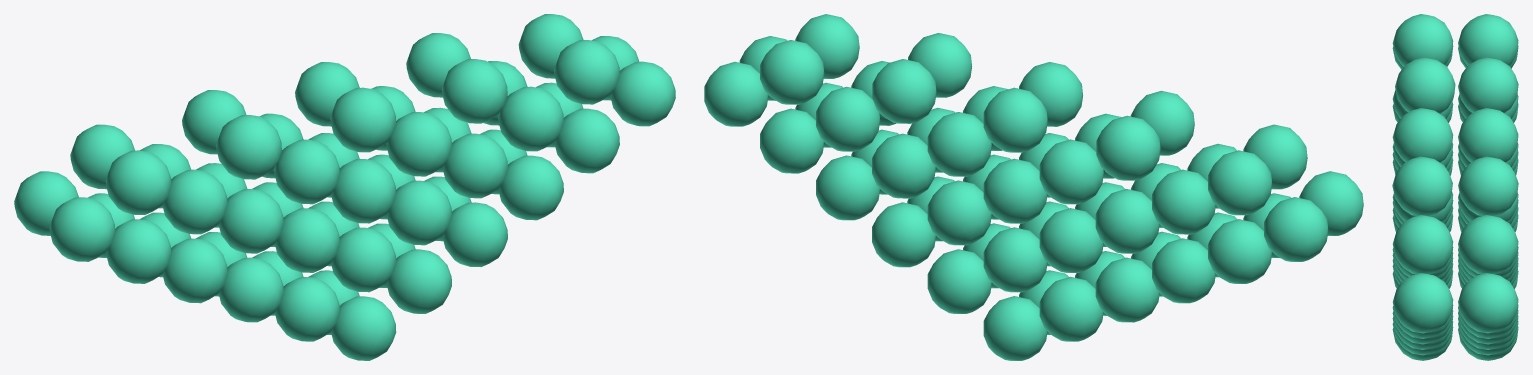
3 renders of one model, left to right at view 1: azimuth 30°, elevation 25°; view 2: azimuth 150°, elevation 25°; view 3: azimuth 270°, elevation 25°, orthographic. The views are drawn at different scales.
Visible parts, largest first — view 1: Balls.021, Balls.026, Balls.025, Balls.027, Balls.016, Balls.011, Balls.015, Balls.029, Balls.024, Balls.010, Balls.006, Balls.004 (+40 smaller); view 2: Balls.055, Balls.054, Balls.044, Balls.049, Balls.056, Balls.039, Balls.043, Balls.053, Balls.052, Balls.041, Balls.030, Balls.031 (+40 smaller); view 3: Balls.034, Balls.006, Balls.027, Balls.056, Balls.044, Balls.016, Balls.026, Balls.055, Balls.054, Balls.025, Balls.049, Balls.021 (+28 smaller).
Boxes of the visible parts, bbox=[...] form: Balls.021: bbox=[105, 150, 171, 214]; Balls.026: bbox=[216, 115, 281, 179]; Balls.025: bbox=[330, 87, 396, 152]; Balls.027: bbox=[442, 59, 507, 123]; Balls.016: bbox=[554, 40, 619, 104]; Balls.011: bbox=[49, 197, 115, 261]; Balls.015: bbox=[498, 86, 563, 151]; Balls.029: bbox=[274, 139, 339, 204]; Balls.024: bbox=[386, 112, 451, 176]; Balls.010: bbox=[106, 219, 171, 283]; Balls.006: bbox=[610, 61, 675, 126]; Balls.004: bbox=[498, 155, 563, 220]; Balls.055: bbox=[1096, 115, 1160, 180]; Balls.054: bbox=[983, 87, 1047, 152]; Balls.044: bbox=[760, 40, 824, 104]; Balls.049: bbox=[1208, 150, 1272, 215]; Balls.056: bbox=[872, 59, 936, 123]; Balls.039: bbox=[1264, 197, 1328, 261]; Balls.043: bbox=[816, 86, 880, 151]; Balls.053: bbox=[1039, 139, 1103, 204]; Balls.052: bbox=[927, 112, 991, 176]; Balls.041: bbox=[927, 180, 991, 245]; Balls.030: bbox=[927, 249, 991, 313]; Balls.031: bbox=[872, 202, 935, 267]; Balls.034: bbox=[1458, 273, 1518, 333]; Balls.006: bbox=[1392, 273, 1453, 333]; Balls.027: bbox=[1392, 156, 1452, 215]; Balls.056: bbox=[1458, 156, 1518, 215]; Balls.044: bbox=[1458, 215, 1518, 274]; Balls.016: bbox=[1392, 215, 1453, 274]; Balls.026: bbox=[1395, 57, 1455, 113]; Balls.055: bbox=[1458, 57, 1518, 112]; Balls.054: bbox=[1458, 108, 1518, 162]; Balls.025: bbox=[1392, 108, 1453, 162]; Balls.049: bbox=[1458, 14, 1518, 65]; Balls.021: bbox=[1392, 14, 1453, 66].
Size of the model in its own units: 8.85 by 3.7 by 1.7.
